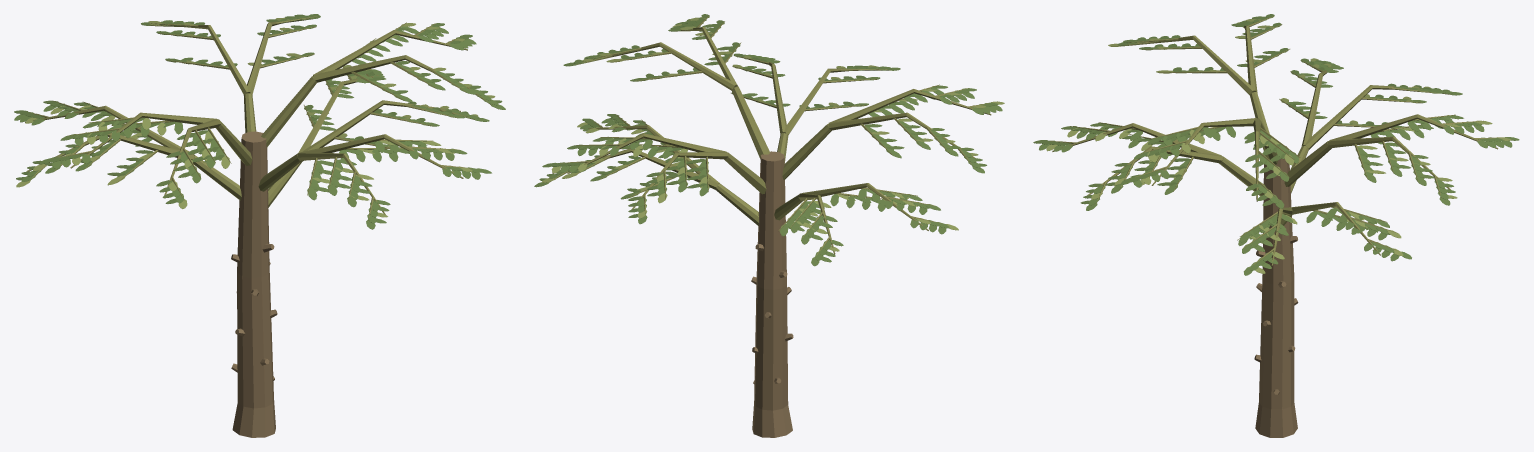
The picture shows the model from 3 angles, left to right: view 1: azimuth 30°, elevation 25°; view 2: azimuth 150°, elevation 25°; view 3: azimuth 270°, elevation 25°; orthographic projection. The views are drawn at different scales.
Visible parts, largest first — view 1: self-standing-stem-with-sparse-petiole-stubs, six-massive-multi-order-compound-fronds; view 2: self-standing-stem-with-sparse-petiole-stubs, six-massive-multi-order-compound-fronds; view 3: self-standing-stem-with-sparse-petiole-stubs, six-massive-multi-order-compound-fronds.
Boxes of the visible parts, x1,y1,x2,y2 form: self-standing-stem-with-sparse-petiole-stubs: (25, 16, 492, 437); six-massive-multi-order-compound-fronds: (14, 14, 505, 229); self-standing-stem-with-sparse-petiole-stubs: (547, 16, 991, 437); six-massive-multi-order-compound-fronds: (534, 14, 1004, 266); self-standing-stem-with-sparse-petiole-stubs: (1050, 16, 1506, 437); six-massive-multi-order-compound-fronds: (1033, 14, 1519, 275).
Bounding box in the file's own units: 4.11 × 3.34 × 4.11.
